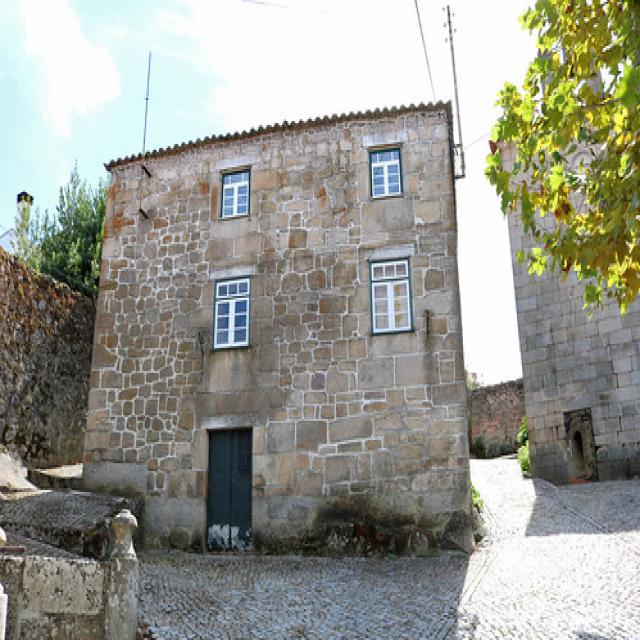Normal_building: (77, 92, 477, 556)
